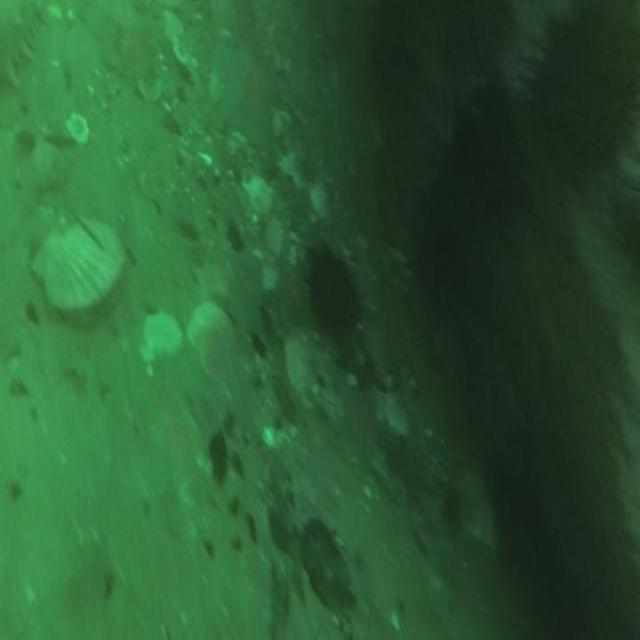echinus: (530, 30, 628, 190), (459, 107, 529, 223), (415, 204, 469, 310), (309, 250, 359, 330)
scallop: (30, 215, 128, 311), (188, 303, 235, 370)
